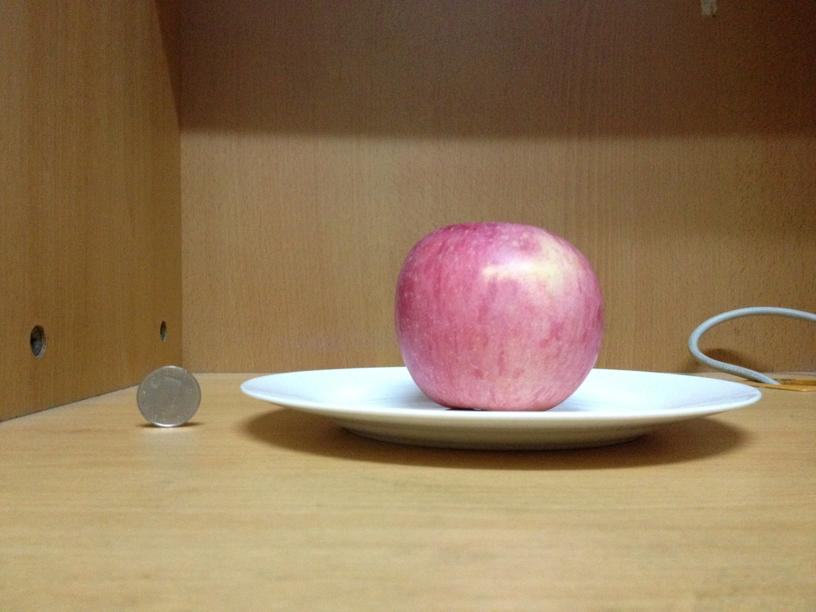apple: (393, 225, 604, 409)
coin: (136, 365, 201, 427)
